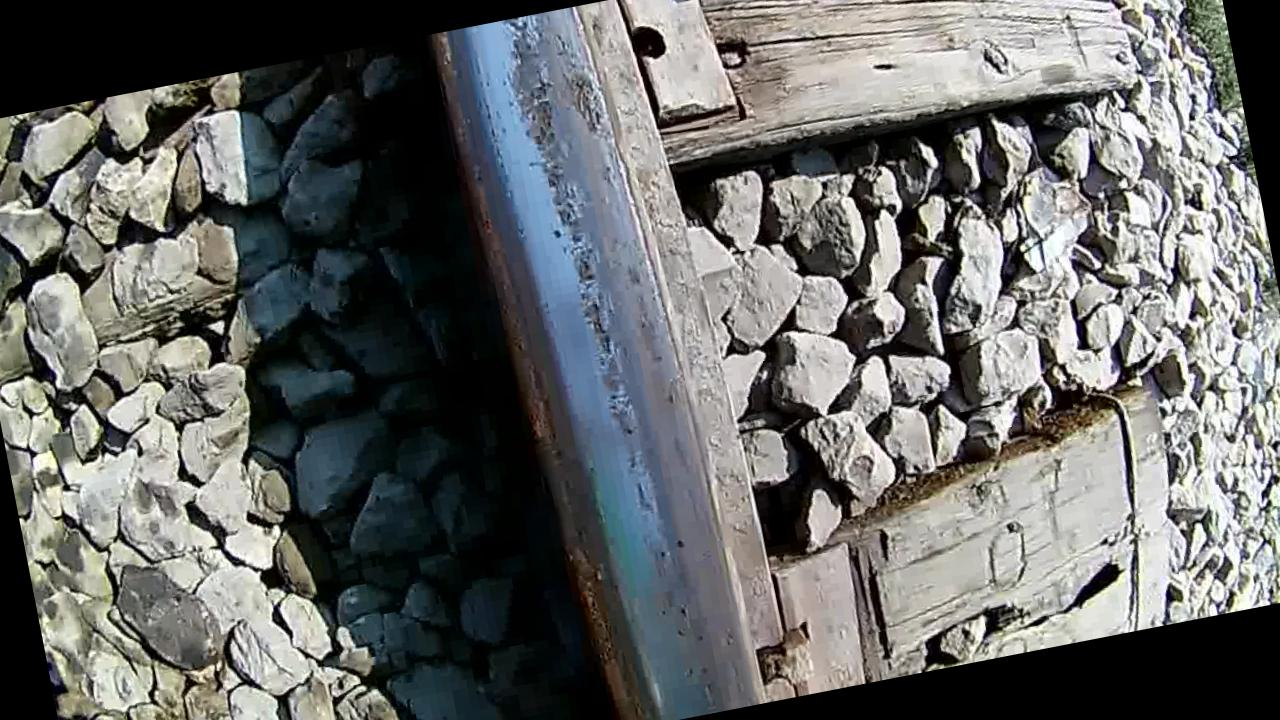crack: (450, 0, 750, 720)
